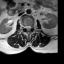CCS_normal: (27, 23, 29, 33)
LFS_normal: (31, 23, 33, 30)
LLS_normal: (29, 23, 31, 31)
RFS_normal: (23, 23, 25, 30)
RLS_normal: (25, 23, 27, 31)
